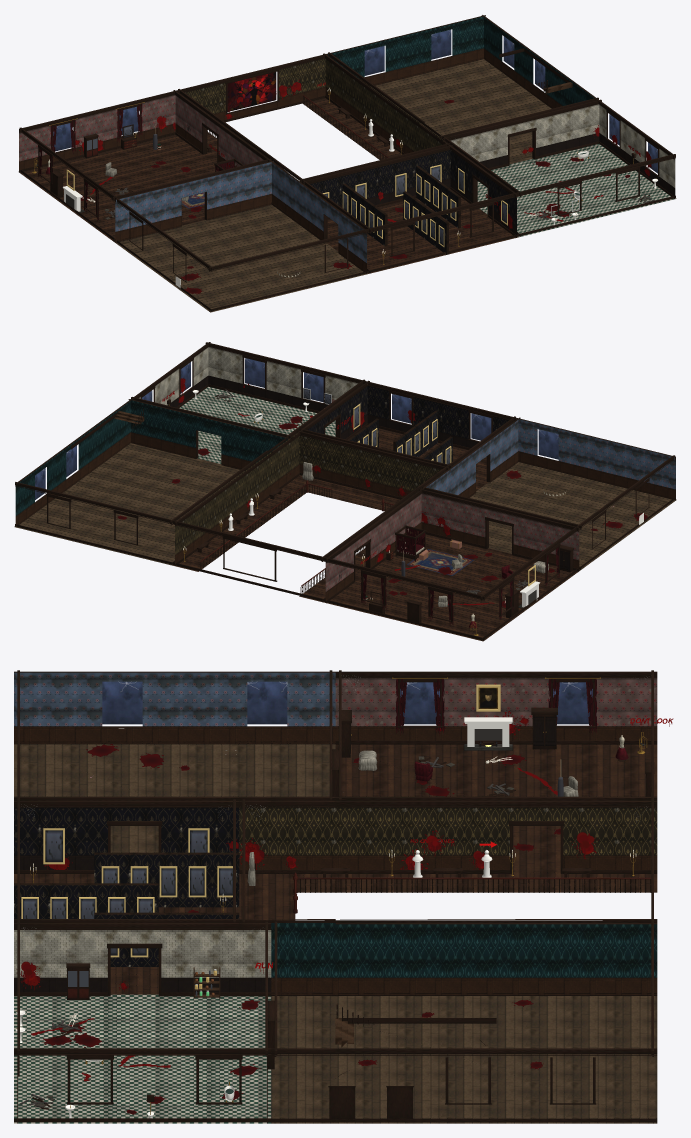
Rendered from house_upper_v13.glb.
3 views of the same model, one above another, from view 1: azimuth 30°, elevation 25°; view 2: azimuth 150°, elevation 25°; view 3: azimuth 270°, elevation 25° (orthographic). The views are drawn at different scales.
Parts seen in each view (by area): view 1: house_upper; view 2: house_upper; view 3: house_upper.
Boxes of the visible parts, x1,y1,x2,y2 form: house_upper: (18, 15, 676, 312); house_upper: (14, 342, 676, 641); house_upper: (14, 670, 673, 1123).
Bounding box in the file's own units: 57.32 × 6.88 × 41.22.
Materials: 71 (54 with a texture image).
